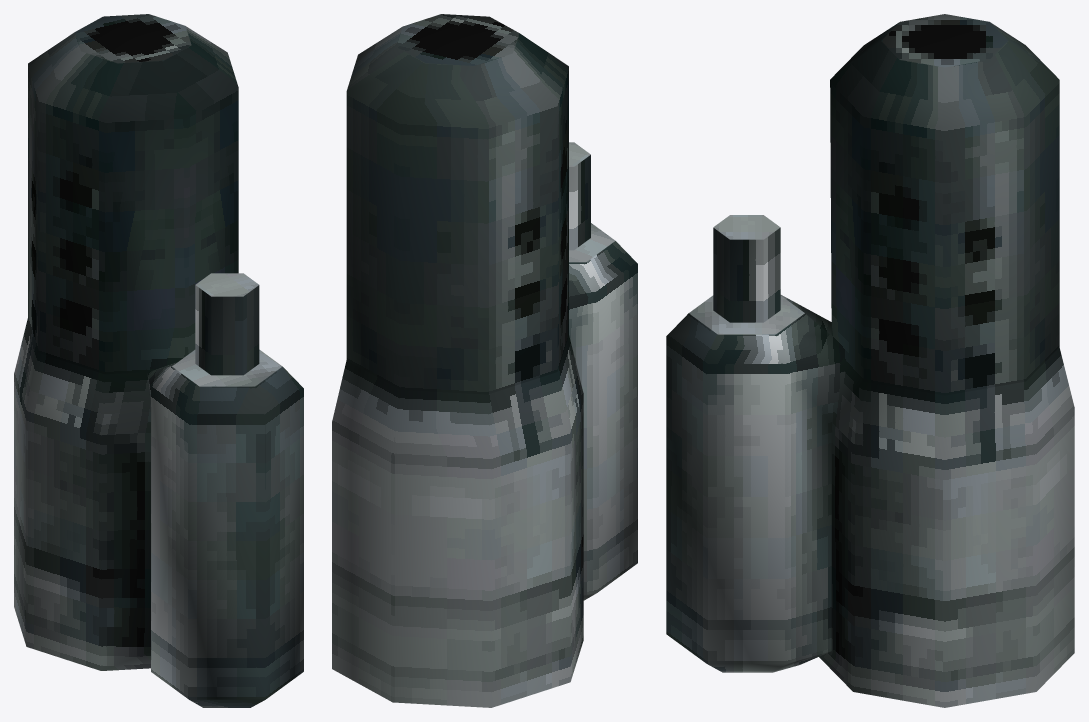
Rendered from wp_muzzle_lg_s04_l0.fbx.
3 views of the same model, side by side, from view 1: azimuth 30°, elevation 25°; view 2: azimuth 150°, elevation 25°; view 3: azimuth 270°, elevation 25° (orthographic). The views are drawn at different scales.
Visible parts, largest first — view 1: mesh_node; view 2: mesh_node; view 3: mesh_node.
Part boxes in pixels (left/top/right/bottom): mesh_node: left=14, top=14, right=303, bottom=707; mesh_node: left=332, top=14, right=637, bottom=707; mesh_node: left=666, top=14, right=1074, bottom=707.
Bounding box in the file's own units: 0.0433 × 0.113 × 0.0681.
Materials: 1 (1 with a texture image).
